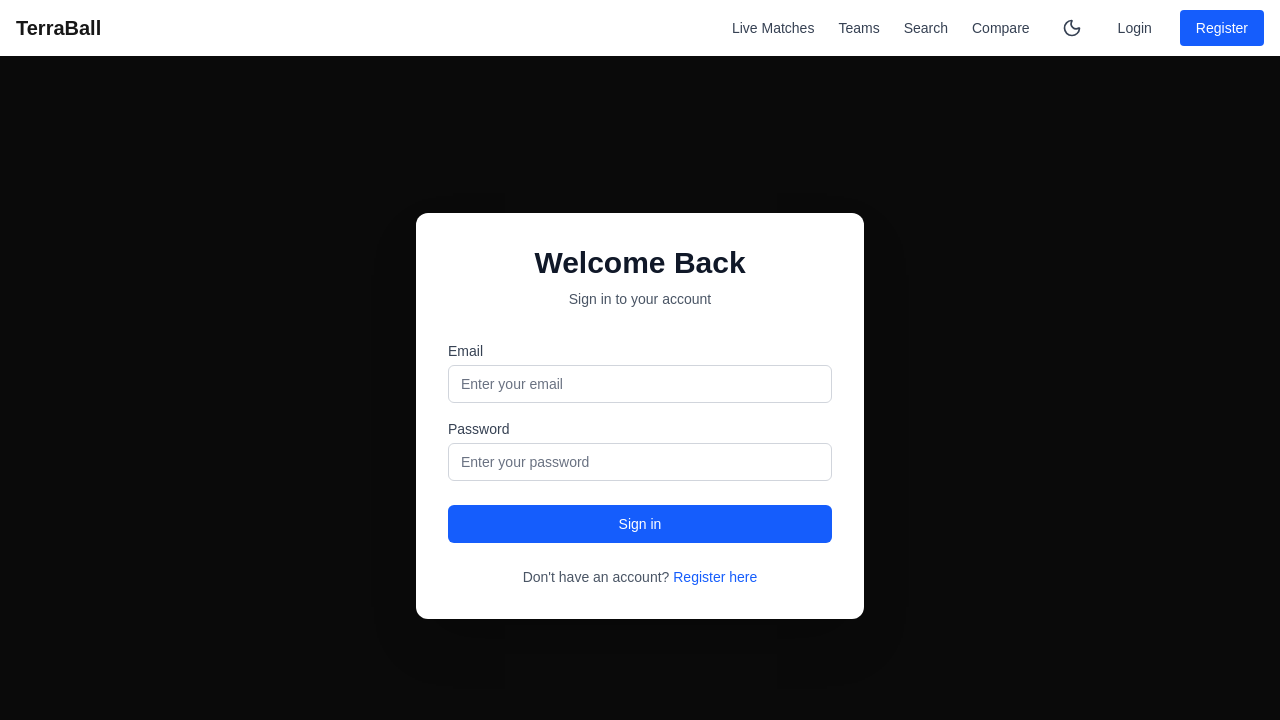
Login Page — /login › Failure path › displays an error message when Supabase returns 400
Note: Fill in the form with bad credentials
Type "wrong@example.com" into the field named "email".
click(640, 384); type("wrong@example.com")  # box [448, 365, 832, 403]
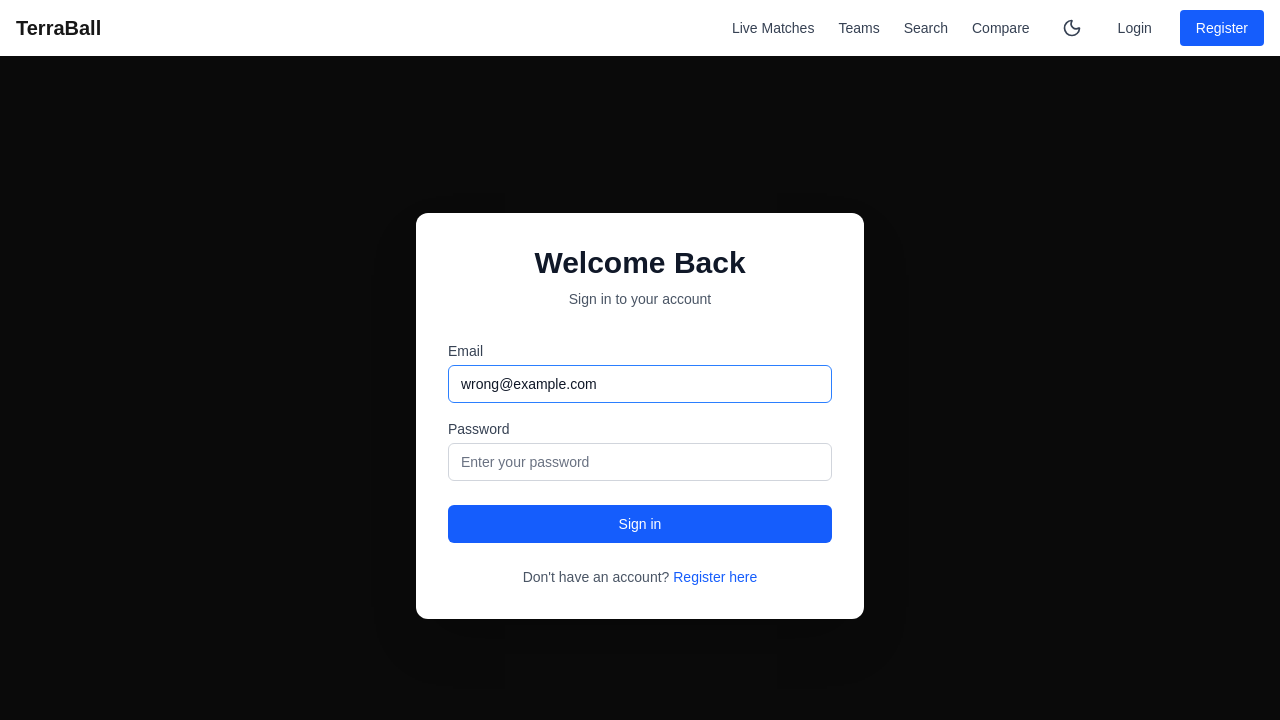
Type "badpassword" into the password field named "password".
click(640, 462); type("badpassword")  # box [448, 443, 832, 481]
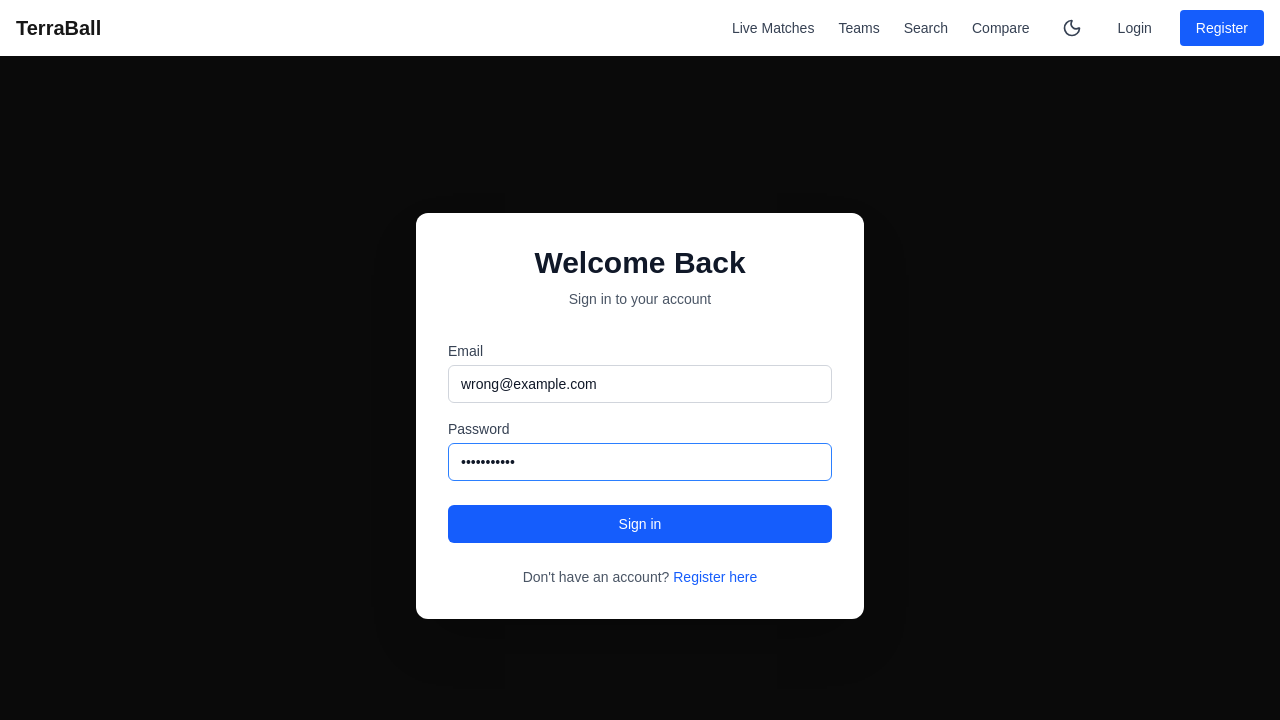
Click the submit button.
click(640, 524)  # box [448, 505, 832, 543]
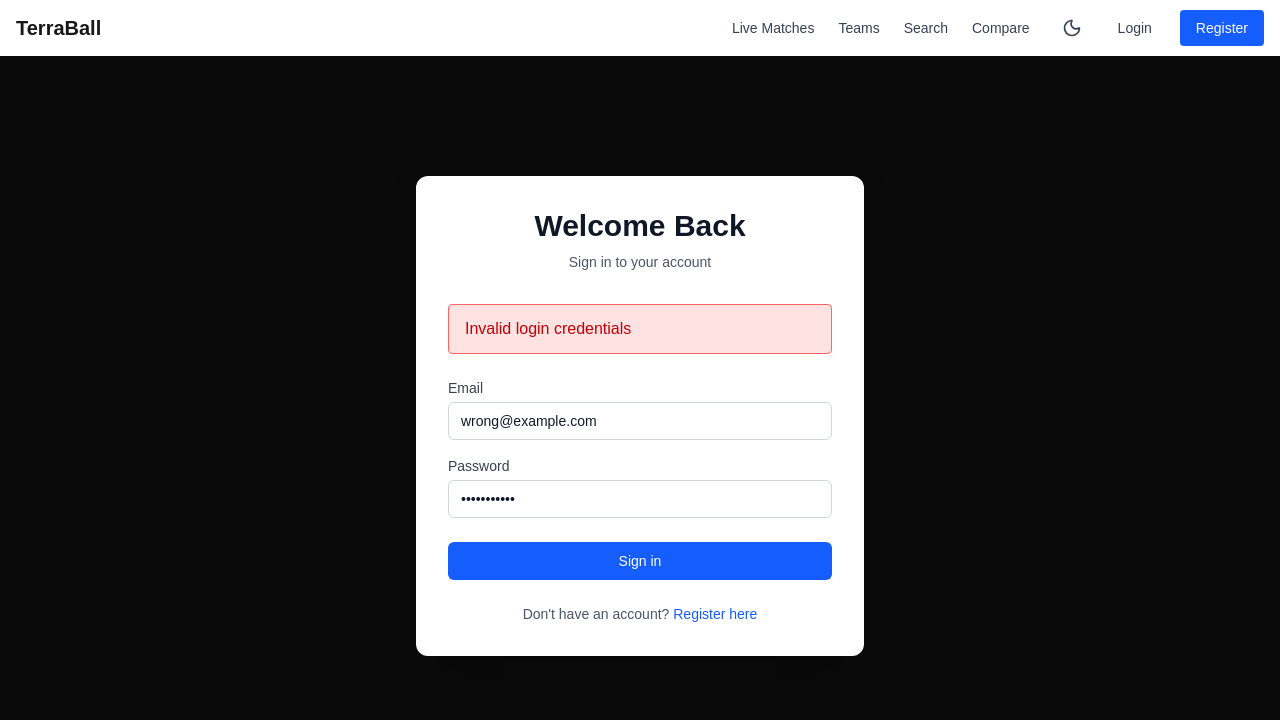
Expected: the text "Invalid login credentials" is shown, [448, 304, 832, 354]
